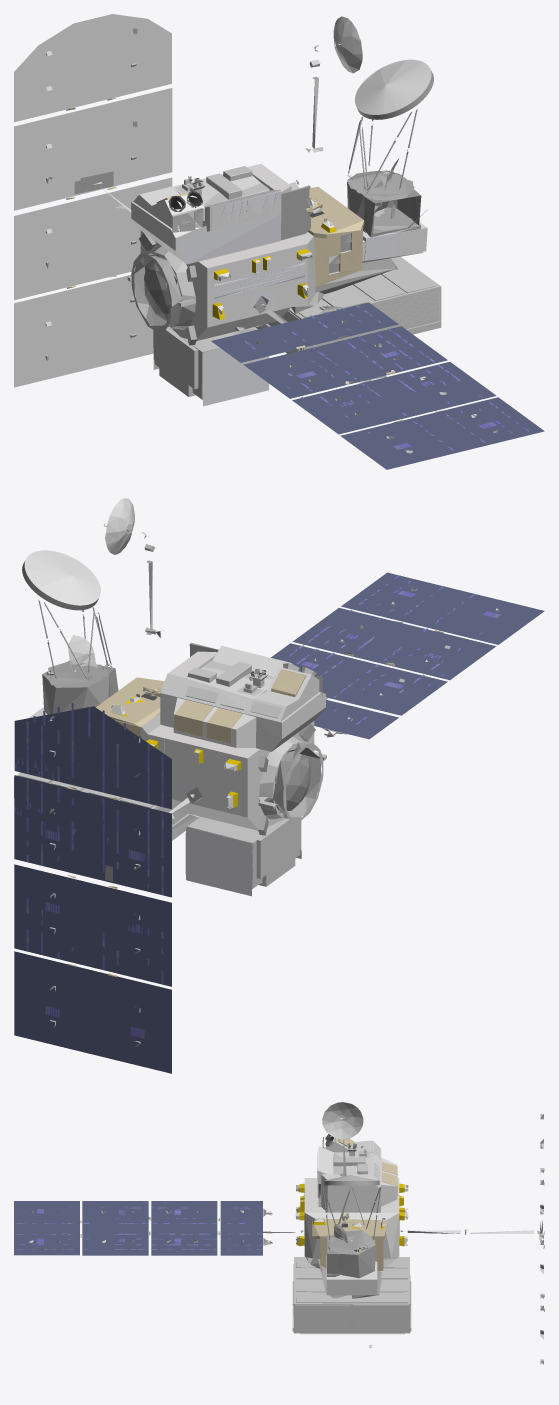
The model's file is gpm.glb.
The picture shows the model from 3 angles, top to bottom: view 1: azimuth 30°, elevation 25°; view 2: azimuth 150°, elevation 25°; view 3: azimuth 270°, elevation 25°; orthographic projection. The views are drawn at different scales.
Visible parts, largest first — view 1: GPM-MainBus; view 2: GPM-MainBus; view 3: GPM-MainBus.
Part boxes in pixels (box(x1,y1,x2,y2)): GPM-MainBus: box(14, 14, 544, 469); GPM-MainBus: box(14, 498, 544, 1073); GPM-MainBus: box(14, 1102, 544, 1364).
Bounding box in the file's own units: 185 × 268 × 429.
